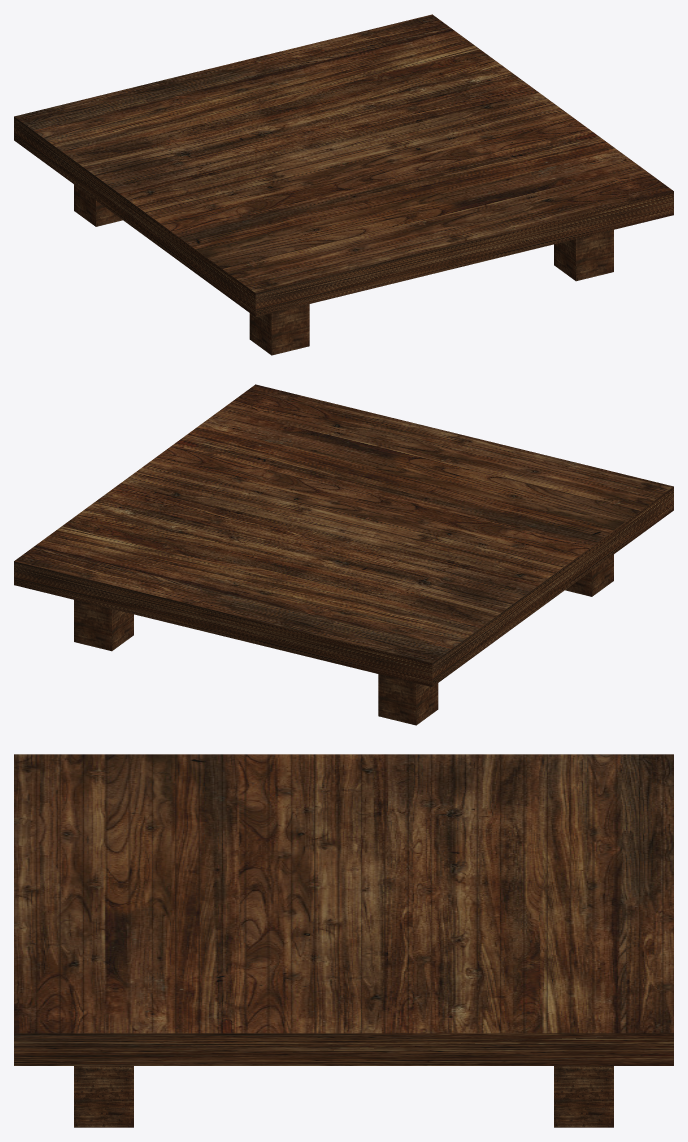
Rendered from map_table_real.FBX.
The picture shows the model from 3 angles, top to bottom: view 1: azimuth 30°, elevation 25°; view 2: azimuth 150°, elevation 25°; view 3: azimuth 270°, elevation 25°; orthographic projection. The views are drawn at different scales.
Parts seen in each view (by area): view 1: Box005, Box001, Box002, Box004; view 2: Box005, Box004, Box003, Box001; view 3: Box005, Box002, Box003.
Boxes of the visible parts, x1,y1,x2,y2 form: Box005: (14, 14, 673, 317); Box001: (249, 304, 309, 355); Box002: (554, 230, 613, 281); Box004: (74, 184, 122, 226); Box005: (14, 384, 673, 687); Box004: (378, 674, 438, 725); Box003: (74, 600, 133, 651); Box001: (565, 554, 613, 596); Box005: (14, 754, 673, 1065); Box002: (74, 1066, 133, 1127); Box003: (554, 1066, 613, 1127).
Size of the model in its own units: 55 by 11 by 55.
Materials: 1 (1 with a texture image).
